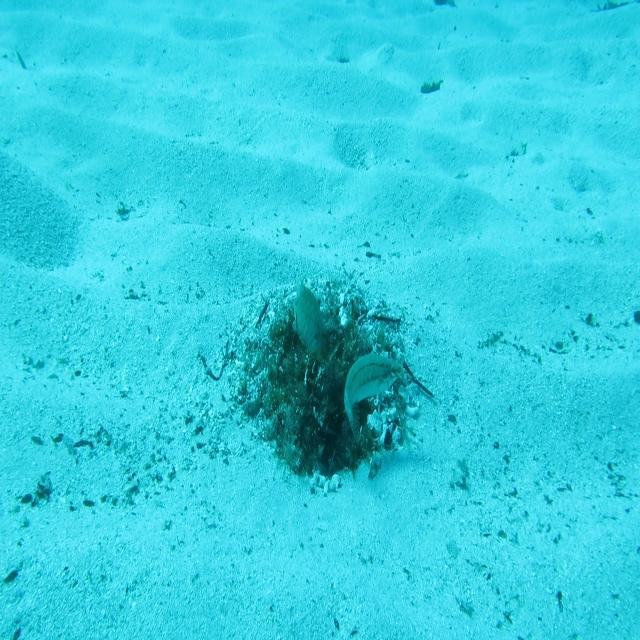NIP_CORE: (288, 270, 327, 358)
female: (342, 351, 406, 447)
nest: (215, 253, 430, 508)
vegetation: (421, 78, 445, 98)
